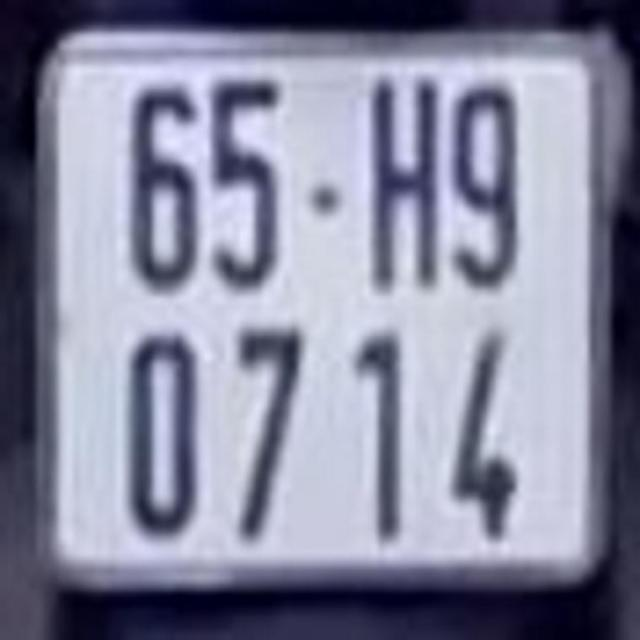0: (129, 344, 209, 536)
1: (351, 331, 420, 543)
4: (450, 319, 530, 540)
5: (208, 69, 283, 288)
6: (126, 87, 197, 283)
7: (231, 317, 308, 546)
9: (456, 83, 529, 296)
H: (366, 71, 442, 298)
